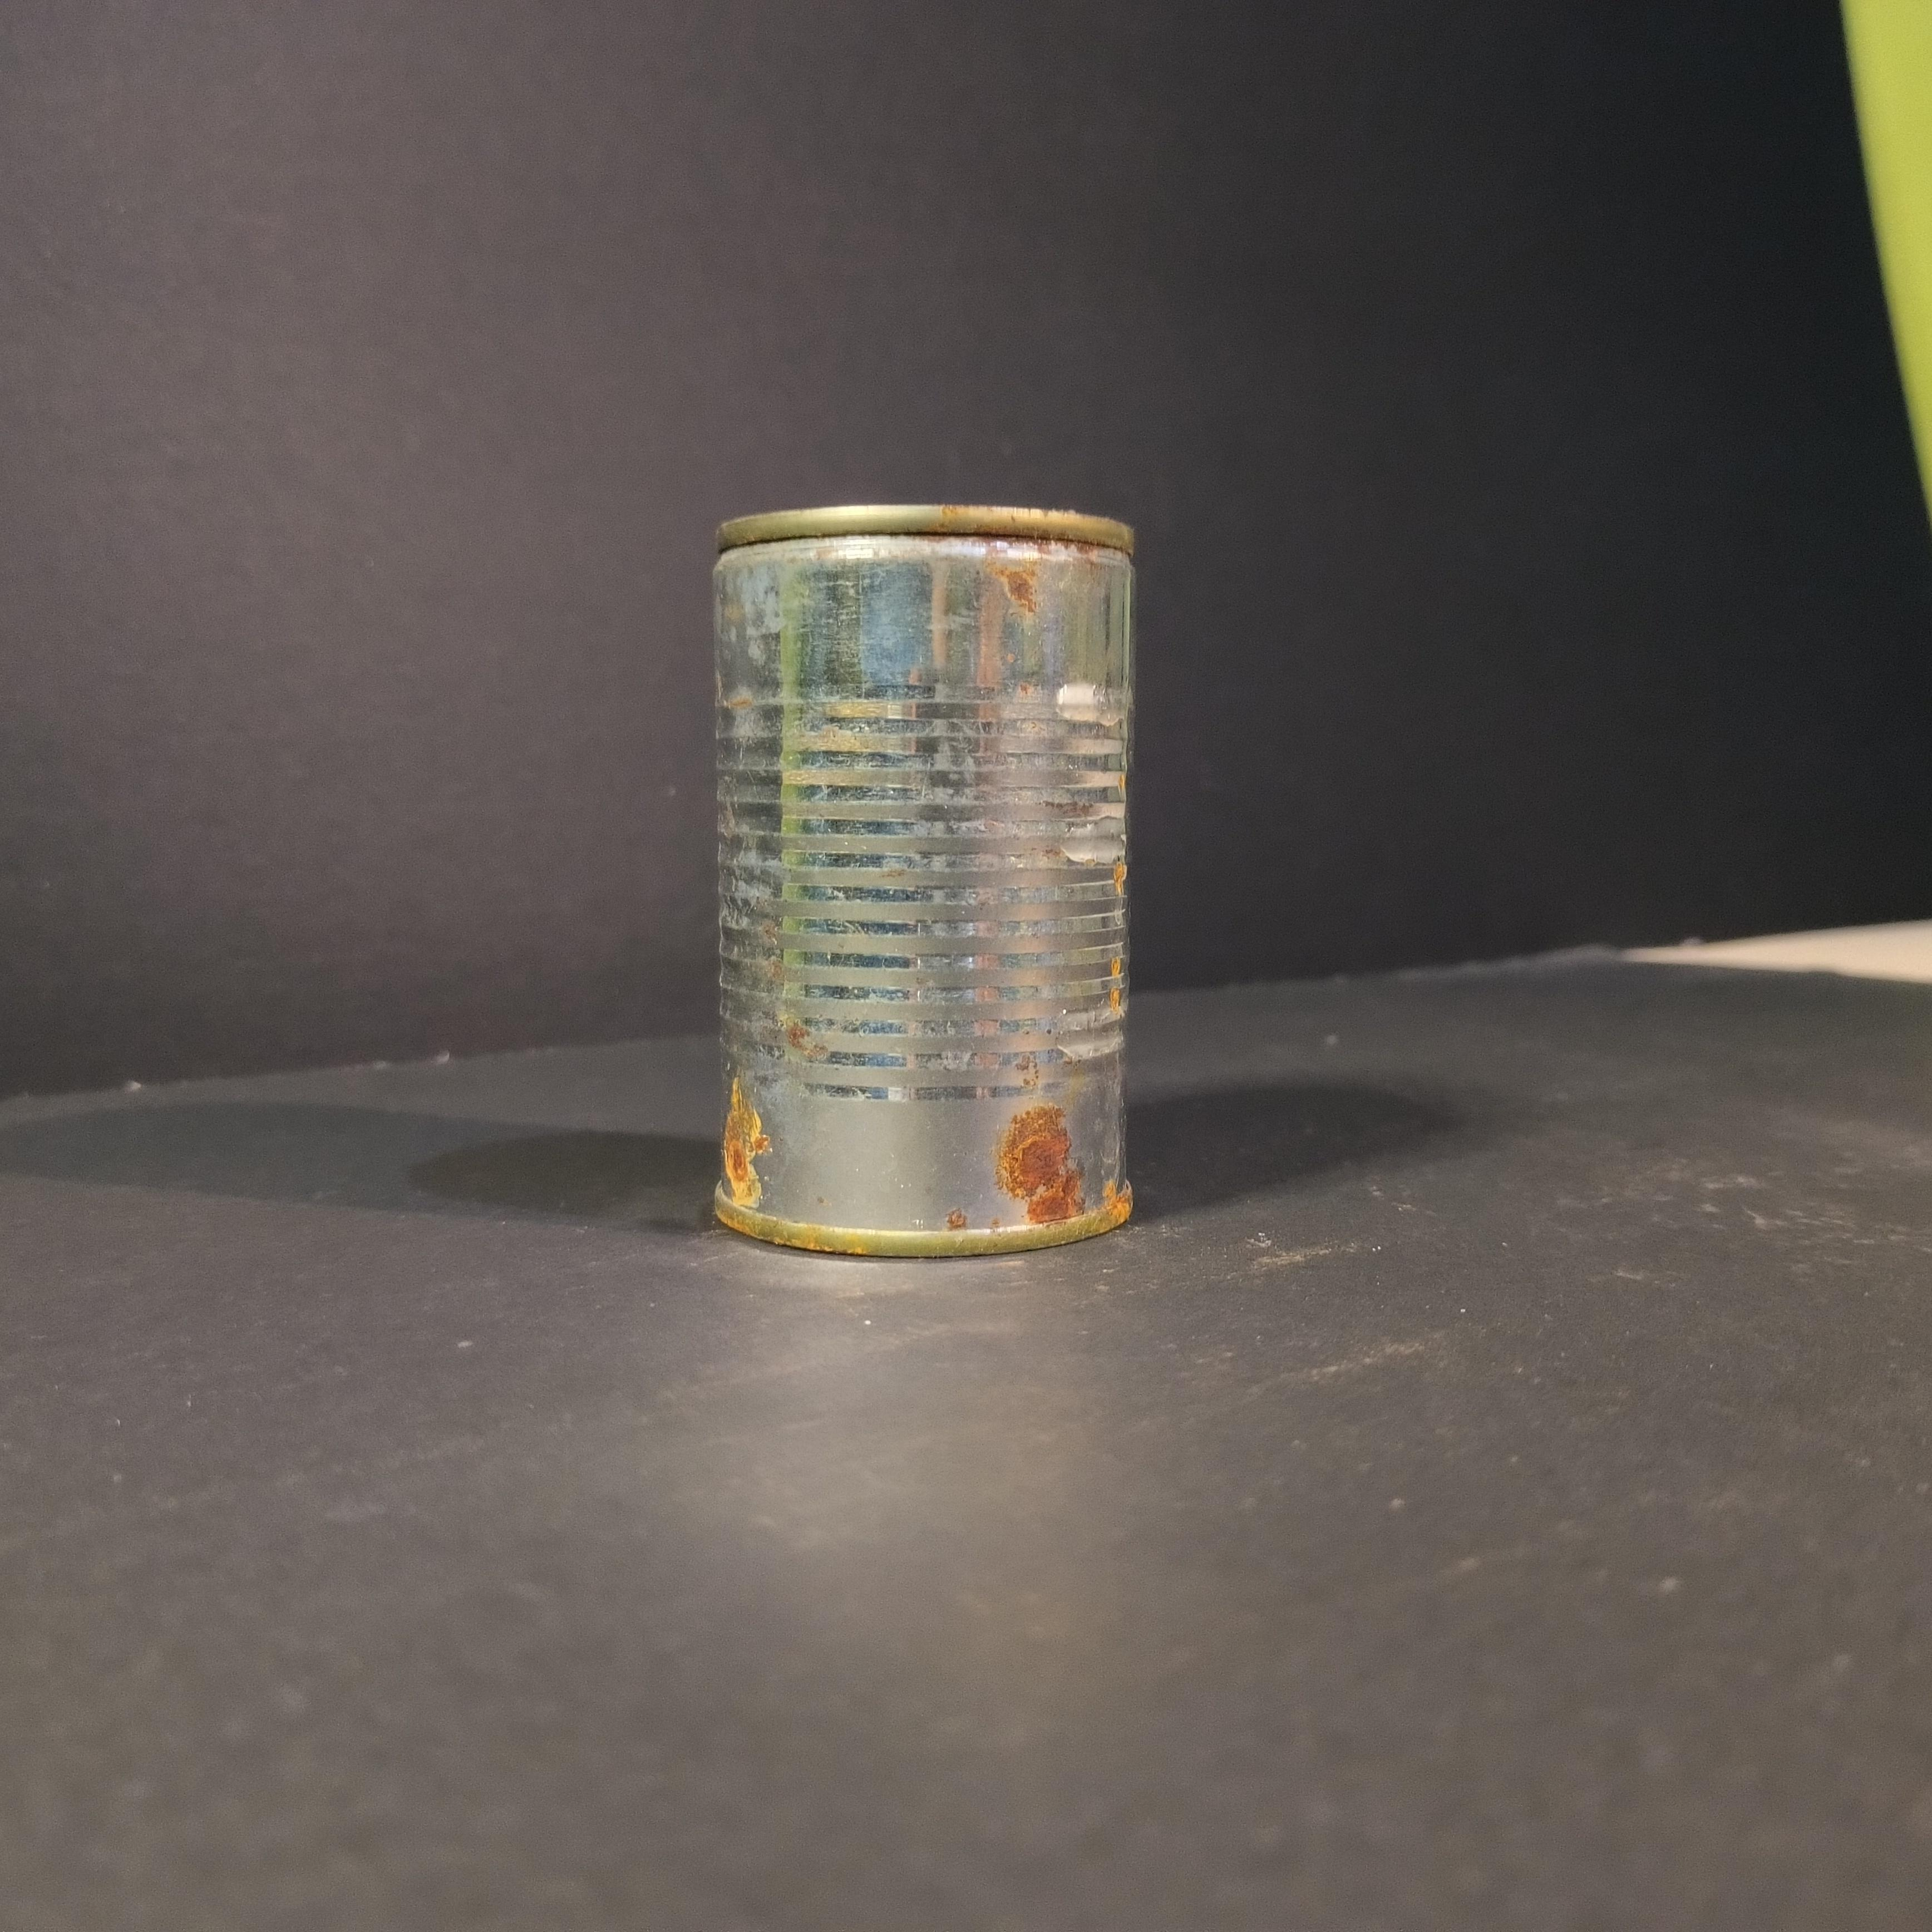Rusted: (695, 487, 1148, 1272)
